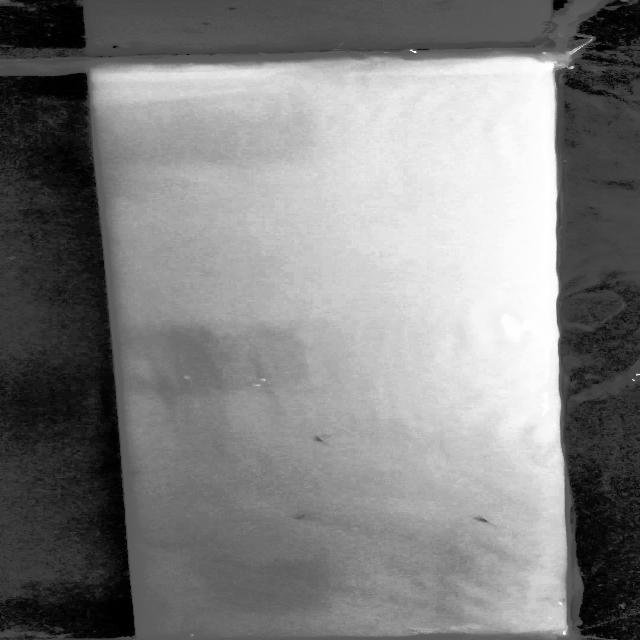shrimp: (459, 510, 505, 532), (296, 430, 346, 448), (275, 506, 313, 524)
